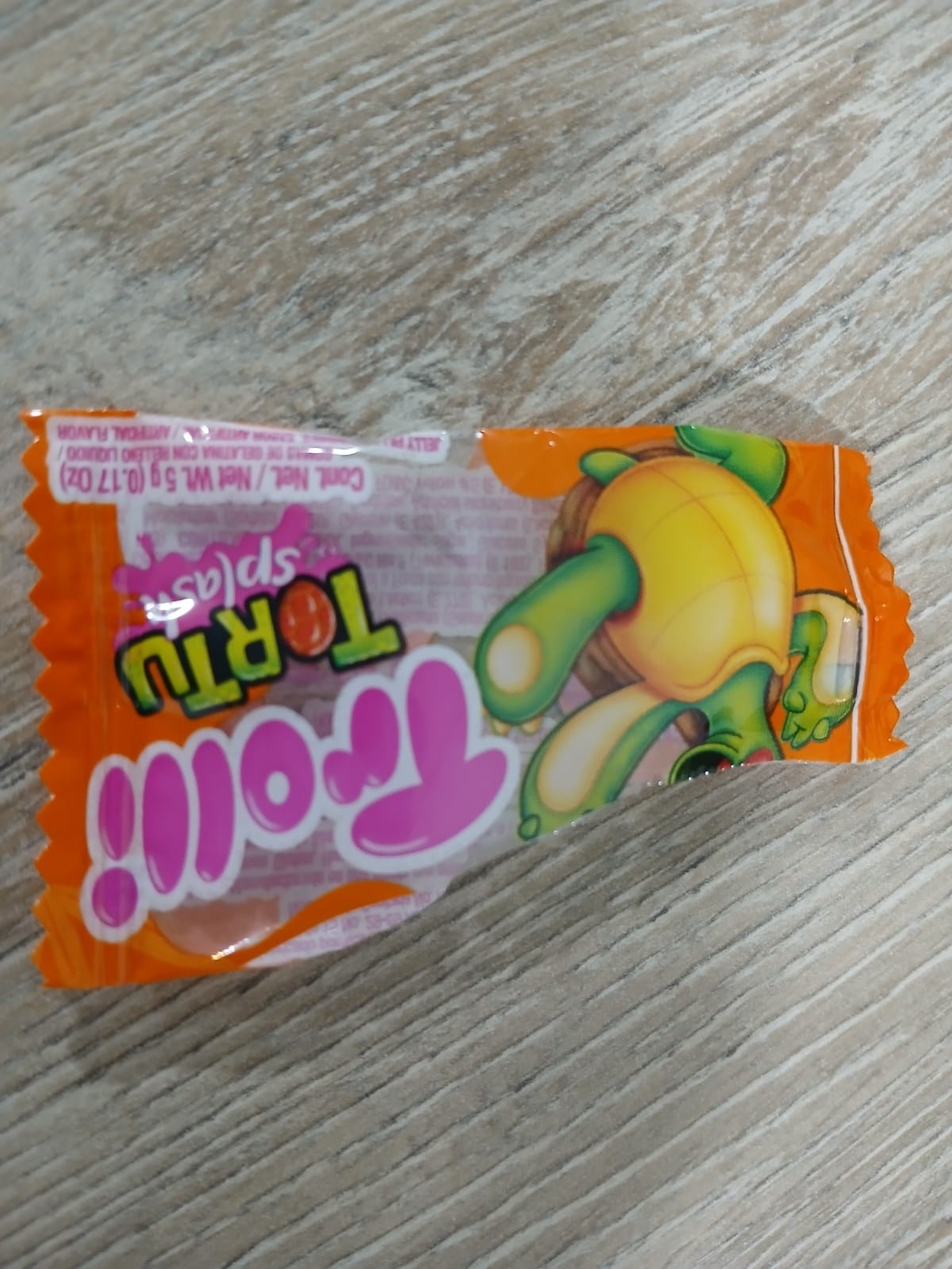Ordinario: (23, 409, 910, 991)
